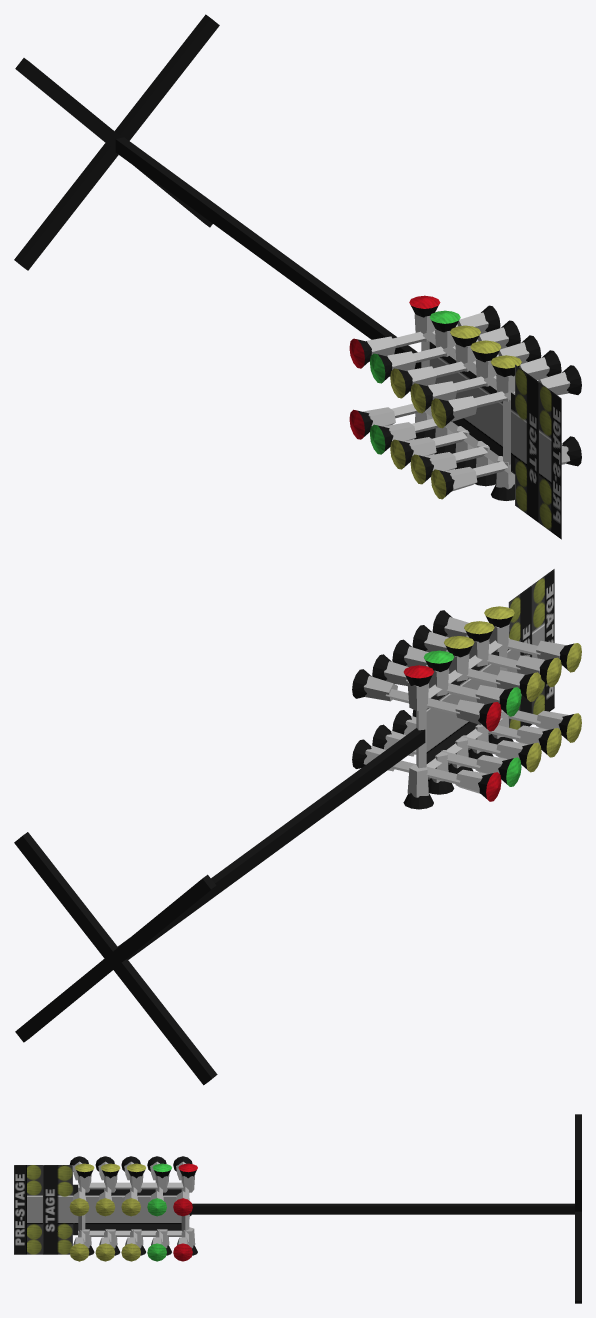
The model's file is christmastree.obj.
3 renders of one model, top to bottom at view 1: azimuth 30°, elevation 25°; view 2: azimuth 150°, elevation 25°; view 3: azimuth 270°, elevation 25°, orthographic. The views are drawn at different scales.
Visible parts, largest first — view 1: 1_-_Default, 7_-_Default, default, Material__35, 2_-_Default, Material__79, Material__46, Material__68, Material__57; view 2: 1_-_Default, default, Material__35, 7_-_Default, 2_-_Default, Material__79, Material__46, Material__68, Material__57; view 3: 7_-_Default, 2_-_Default, 1_-_Default, Material__35, default, Material__79, Material__46, Material__68, Material__57.
Boxes of the visible parts, x1,y1,x2,y2 form: 1_-_Default: (363, 312, 570, 491); 7_-_Default: (429, 342, 561, 539); default: (14, 14, 219, 270); Material__35: (390, 325, 581, 500); 2_-_Default: (115, 137, 421, 368); Material__79: (349, 305, 500, 439); Material__46: (370, 320, 520, 454); Material__68: (409, 295, 440, 439); Material__57: (429, 310, 460, 454); 1_-_Default: (363, 617, 567, 797); default: (14, 832, 217, 1085); Material__35: (392, 606, 581, 773); 7_-_Default: (426, 569, 554, 763); 2_-_Default: (118, 728, 425, 959); Material__79: (352, 669, 501, 801); Material__46: (372, 654, 521, 786); Material__68: (403, 665, 433, 809); Material__57: (423, 650, 454, 794); 7_-_Default: (14, 1165, 181, 1254); 2_-_Default: (189, 1203, 574, 1214); 1_-_Default: (72, 1161, 195, 1248); Material__35: (69, 1156, 145, 1261); default: (575, 1114, 581, 1303); Material__79: (173, 1156, 192, 1261); Material__46: (147, 1156, 166, 1261); Material__68: (178, 1163, 197, 1255); Material__57: (152, 1163, 171, 1255).
Bounding box in the file's own units: 1.29 × 1.3 × 4.99.
Materials: 6 (4 with a texture image).
